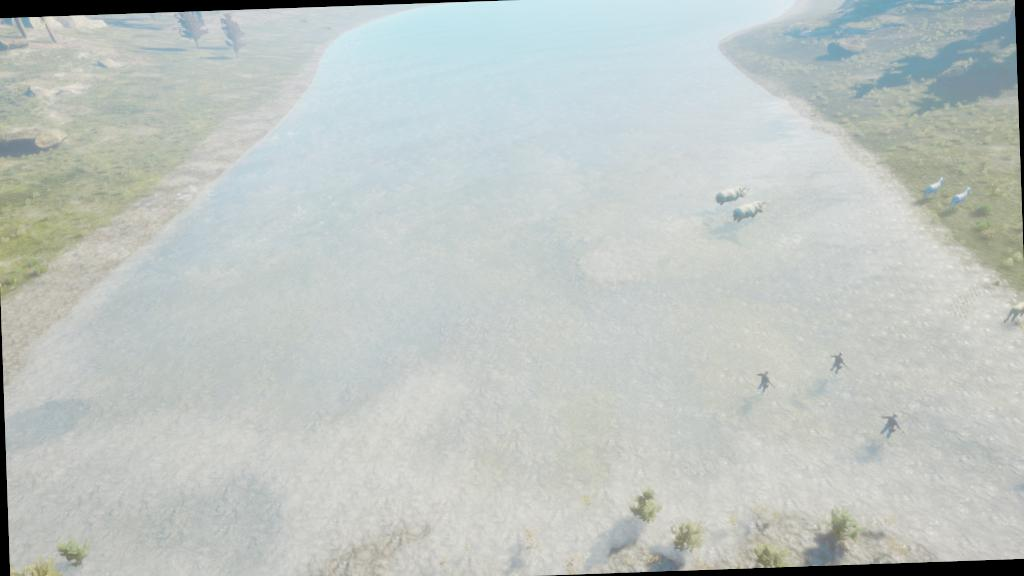human: (870, 406, 910, 448), (818, 346, 852, 388), (751, 366, 779, 402)
rhinoceros: (728, 197, 778, 232), (706, 178, 752, 210)
zebra: (909, 168, 955, 207), (944, 182, 976, 215)
